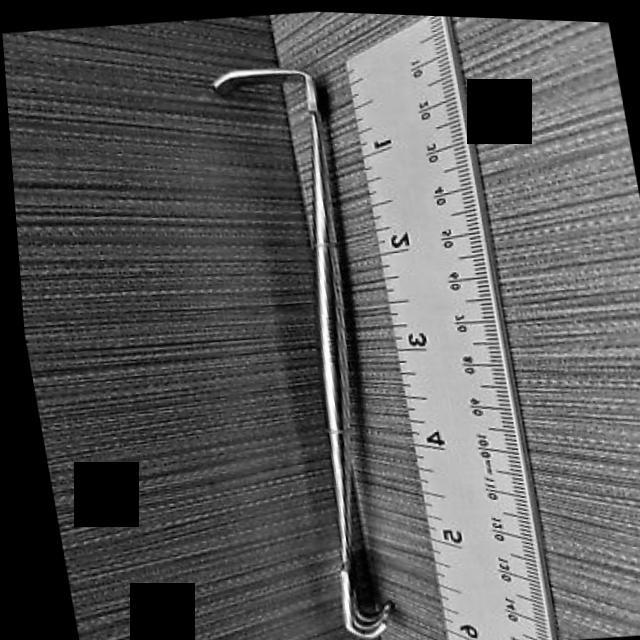Senn Retractor: (192, 46, 417, 640)
